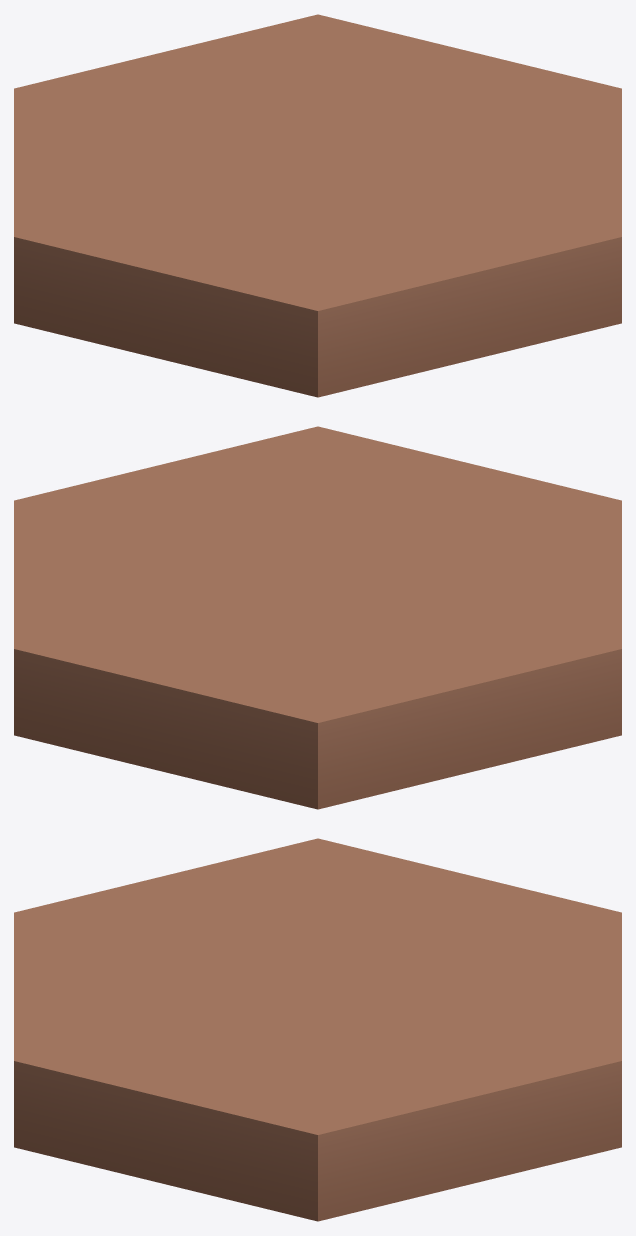
Rendered from lowpoly_small_spot_brown.fbx.
The picture shows the model from 3 angles, top to bottom: view 1: azimuth 30°, elevation 25°; view 2: azimuth 150°, elevation 25°; view 3: azimuth 270°, elevation 25°; orthographic projection.
Visible parts, largest first — view 1: lowpoly_small_spot_brown; view 2: lowpoly_small_spot_brown; view 3: lowpoly_small_spot_brown.
Boxes of the visible parts, bbox=[...] form: lowpoly_small_spot_brown: bbox=[14, 14, 621, 397]; lowpoly_small_spot_brown: bbox=[14, 426, 621, 809]; lowpoly_small_spot_brown: bbox=[14, 838, 621, 1221].
Bounding box in the file's own units: 165 × 22.37 × 143.
Materials: 1 (1 with a texture image).
